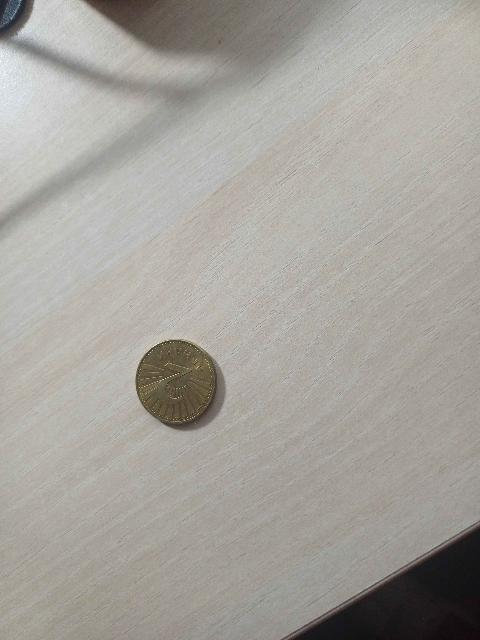2_coin: (136, 340, 216, 424)
